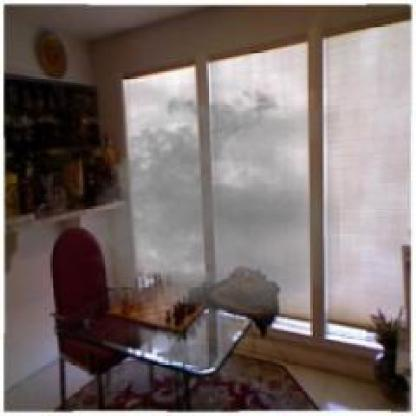Smoke: (107, 29, 371, 258)
